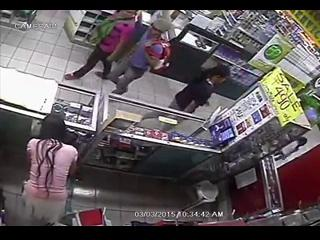Normal: (21, 114, 79, 225), (64, 12, 150, 80), (110, 14, 176, 96), (167, 64, 229, 114)
